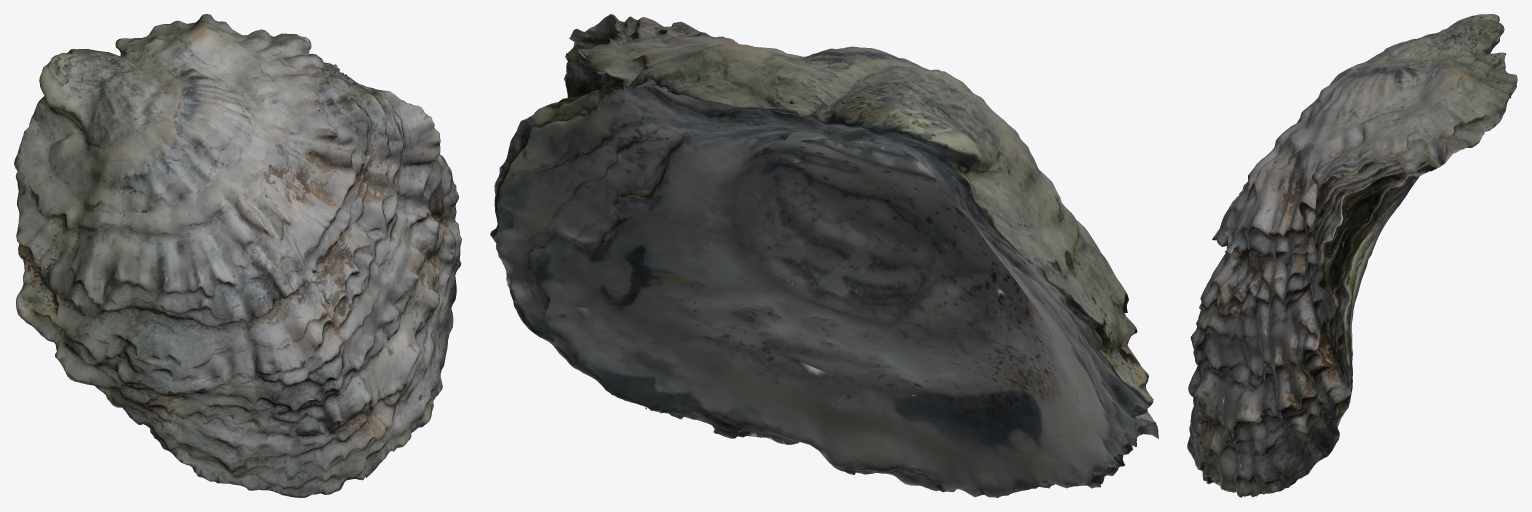
File: seashell.glb
3 views of the same model, side by side, from view 1: azimuth 30°, elevation 25°; view 2: azimuth 150°, elevation 25°; view 3: azimuth 270°, elevation 25° (orthographic). The views are drawn at different scales.
Parts seen in each view (by area): view 1: Object_4, Object_3; view 2: Object_3, Object_4; view 3: Object_3, Object_4.
Boxes of the visible parts, x1,y1,x2,y2 form: Object_4: [14, 14, 461, 497]; Object_3: [14, 14, 461, 495]; Object_3: [490, 15, 1153, 494]; Object_4: [513, 14, 1158, 497]; Object_3: [1196, 14, 1516, 496]; Object_4: [1187, 16, 1517, 497].
Size of the model in its own units: 0.9825 by 0.8149 by 0.6256.
2 materials, 2 textured.
